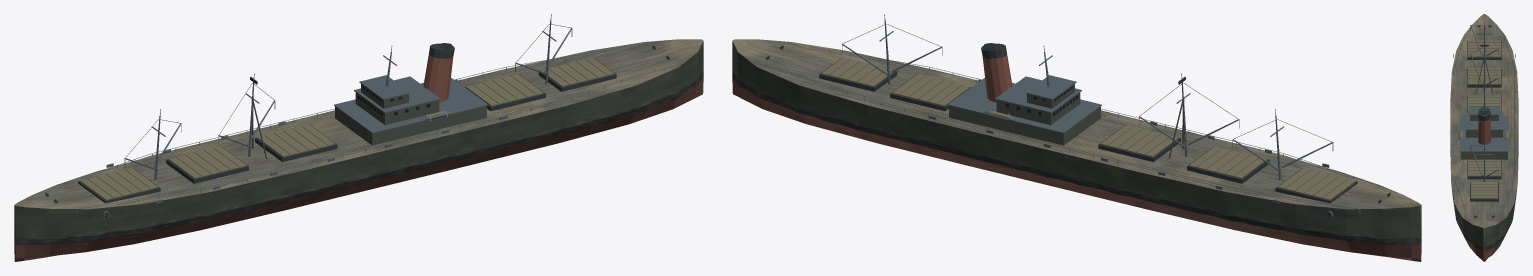
File: japanese-cargo.glb
The picture shows the model from 3 angles, left to right: view 1: azimuth 30°, elevation 25°; view 2: azimuth 150°, elevation 25°; view 3: azimuth 270°, elevation 25°; orthographic projection. The views are drawn at different scales.
Visible parts, largest first — view 1: hullPaint, deckPaint, shade, canvas, cargo, dark, maroon, rope; view 2: hullPaint, deckPaint, shade, canvas, cargo, dark, maroon, rope; view 3: deckPaint, shade, canvas, hullPaint, dark, cargo, maroon, rope, steel.
Part boxes in pixels (bbox=[...]): hullPaint: bbox=[15, 41, 703, 261]; deckPaint: bbox=[14, 39, 703, 209]; shade: bbox=[50, 20, 654, 211]; canvas: bbox=[80, 58, 614, 200]; cargo: bbox=[335, 84, 486, 145]; dark: bbox=[45, 43, 669, 203]; maroon: bbox=[423, 54, 453, 102]; rope: bbox=[124, 14, 572, 167]; hullPaint: bbox=[732, 41, 1420, 261]; deckPaint: bbox=[732, 39, 1421, 209]; shade: bbox=[781, 20, 1385, 211]; canvas: bbox=[821, 58, 1355, 200]; cargo: bbox=[949, 84, 1100, 145]; dark: bbox=[766, 43, 1390, 203]; maroon: bbox=[982, 54, 1012, 102]; rope: bbox=[842, 14, 1333, 159]; deckPaint: bbox=[1450, 14, 1518, 227]; shade: bbox=[1453, 24, 1515, 210]; canvas: bbox=[1460, 40, 1508, 198]; hullPaint: bbox=[1451, 185, 1517, 261]; dark: bbox=[1467, 25, 1501, 217]; cargo: bbox=[1461, 115, 1507, 159]; maroon: bbox=[1478, 117, 1490, 144]; rope: bbox=[1470, 21, 1498, 175]; steel: bbox=[1454, 44, 1515, 211].
Size of the model in its own units: 132 by 23.93 by 17.9.
Materials: 17 (2 with a texture image).
